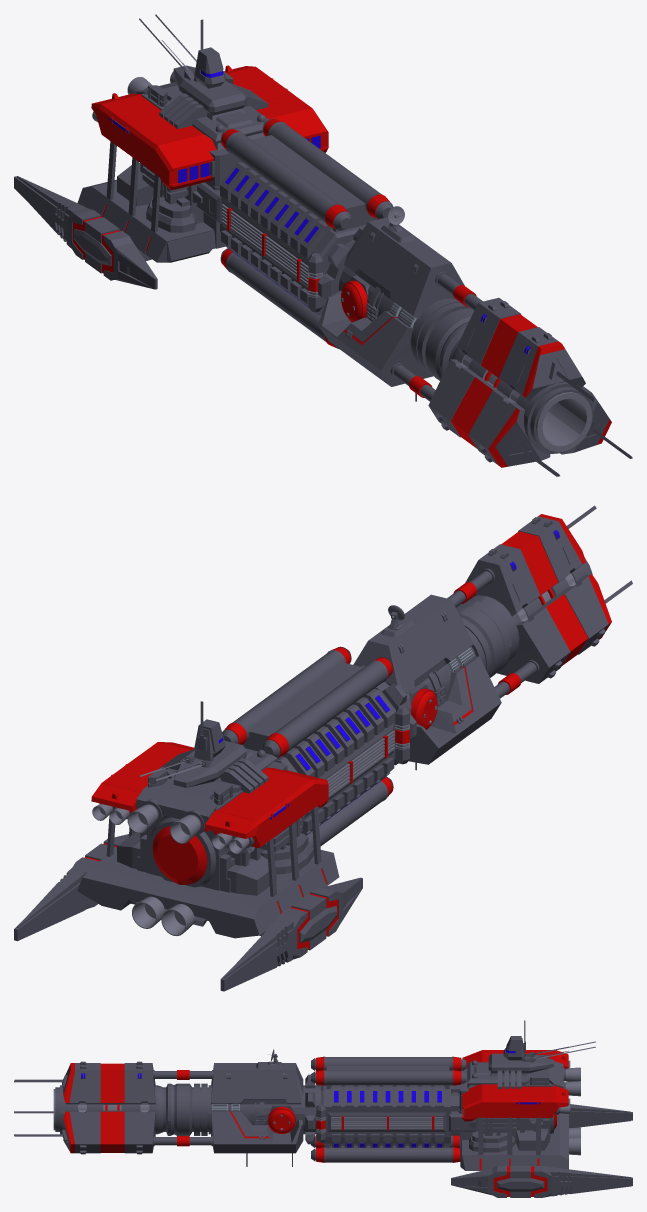
The model's file is CargoShip.fbx.
3 views of the same model, one above another, from view 1: azimuth 30°, elevation 25°; view 2: azimuth 150°, elevation 25°; view 3: azimuth 270°, elevation 25° (orthographic). The views are drawn at different scales.
Visible parts, largest first — view 1: Material2.001, Material2.003, Material2.007, Material2.002, Material2.006, Material2.005, Material2.004; view 2: Material2.003, Material2.001, Material2.007, Material2.002, Material2.006, Material2.004, Material2.005; view 3: Material2.003, Material2.002, Material2.007, Material2.001, Material2.004, Material2.005, Material2.006.
Part boxes in pixels (x1=…): Material2.001: x1=14, y1=67, x2=599, y2=476; Material2.003: x1=77, y1=65, x2=473, y2=380; Material2.007: x1=73, y1=65, x2=611, y2=467; Material2.002: x1=228, y1=123, x2=609, y2=454; Material2.006: x1=92, y1=14, x2=592, y2=451; Material2.005: x1=327, y1=240, x2=600, y2=455; Material2.004: x1=194, y1=47, x2=632, y2=458; Material2.003: x1=77, y1=600, x2=511, y2=938; Material2.001: x1=112, y1=516, x2=632, y2=991; Material2.007: x1=84, y1=514, x2=611, y2=949; Material2.002: x1=233, y1=650, x2=501, y2=764; Material2.006: x1=92, y1=572, x2=575, y2=935; Material2.004: x1=14, y1=505, x2=596, y2=941; Material2.005: x1=404, y1=558, x2=592, y2=711; Material2.003: x1=167, y1=1052, x2=568, y2=1170; Material2.002: x1=63, y1=1056, x2=450, y2=1154; Material2.007: x1=63, y1=1050, x2=568, y2=1196; Material2.001: x1=14, y1=1052, x2=632, y2=1166; Material2.004: x1=14, y1=1036, x2=632, y2=1197; Material2.005: x1=55, y1=1073, x2=320, y2=1143; Material2.006: x1=53, y1=1020, x2=595, y2=1155.
Size of the model in its own units: 341 by 319 by 1222.
